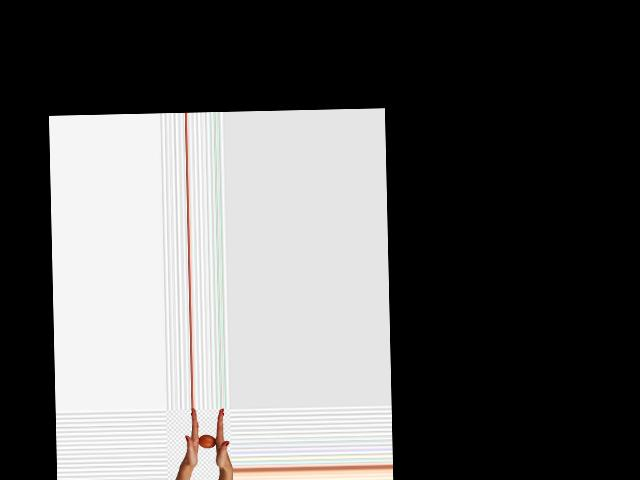egg: (198, 435, 215, 448)
